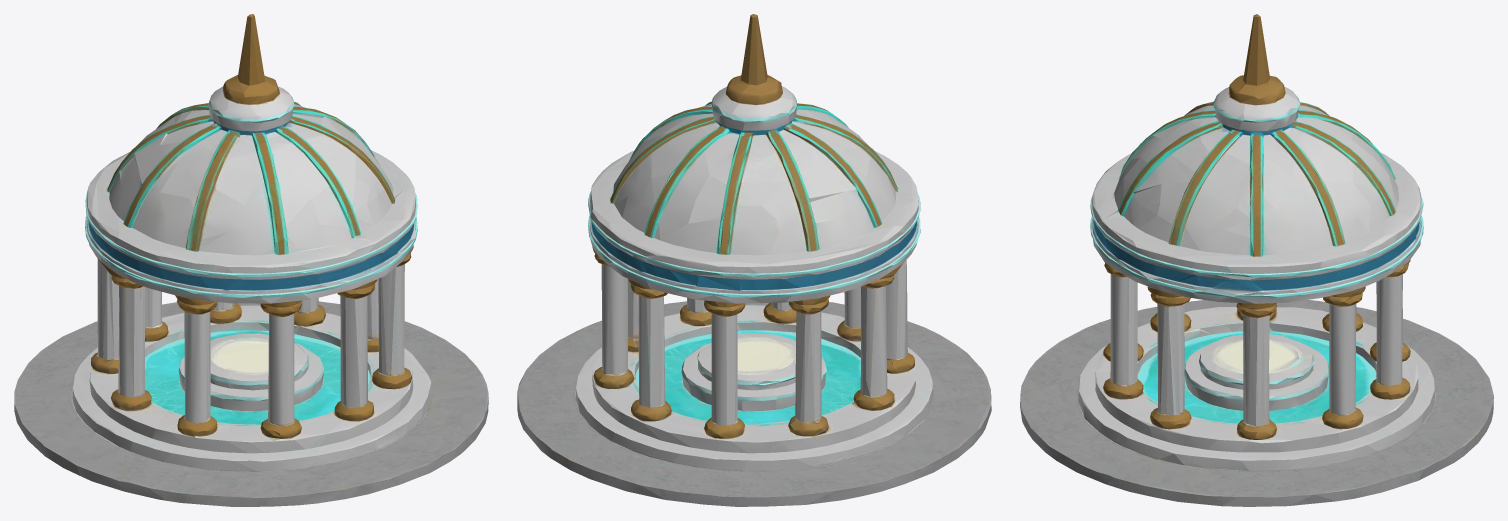
The model's file is hall.glb.
3 renders of one model, left to right at view 1: azimuth 30°, elevation 25°; view 2: azimuth 150°, elevation 25°; view 3: azimuth 270°, elevation 25°, orthographic.
Visible parts, largest first — view 1: Mesh_0; view 2: Mesh_0; view 3: Mesh_0.
Boxes of the visible parts, box(x1,y1,x2,y2) form: Mesh_0: box(14, 14, 488, 506); Mesh_0: box(517, 14, 991, 506); Mesh_0: box(1020, 14, 1493, 506).
Bounding box in the file's own units: 1.9 × 1.74 × 1.9.
1 material, 1 textured.
